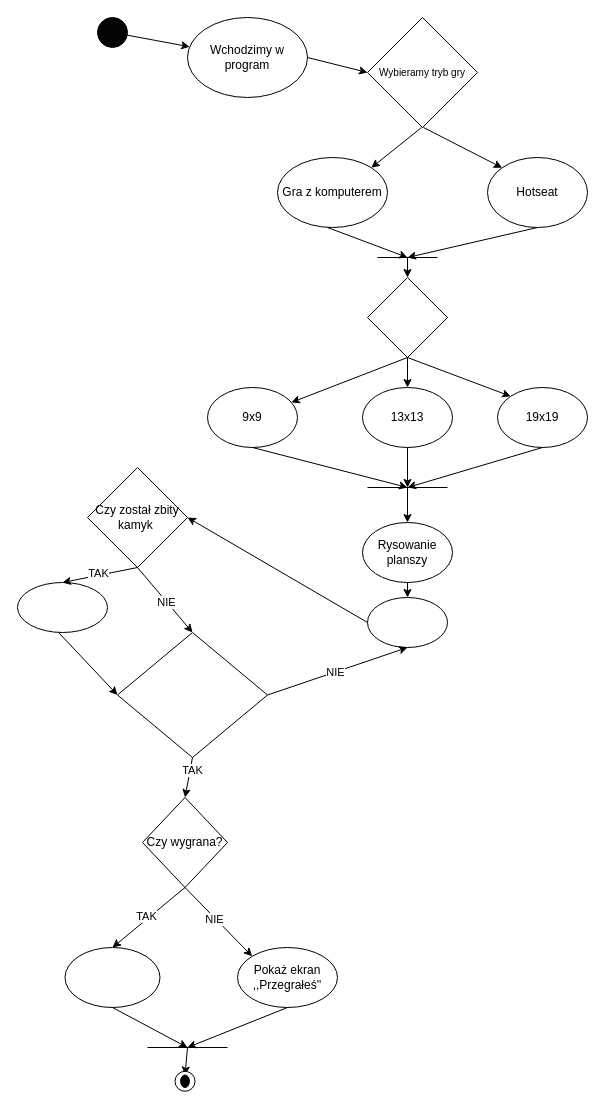
This 605x1109 diagram has some shape labels left out. Here are the shapes that lost their labels. From the top down, the centre of each, then its label:
the point at 407,317: Wybór rozmiaru planszy
the point at 62,607: Podmiana kamyka
the point at 407,622: Rozgrywka
the point at 192,695: Czy gra została rozstrzygnięta
the point at 112,977: Pokaż ekran ,,Wygrałeś''
